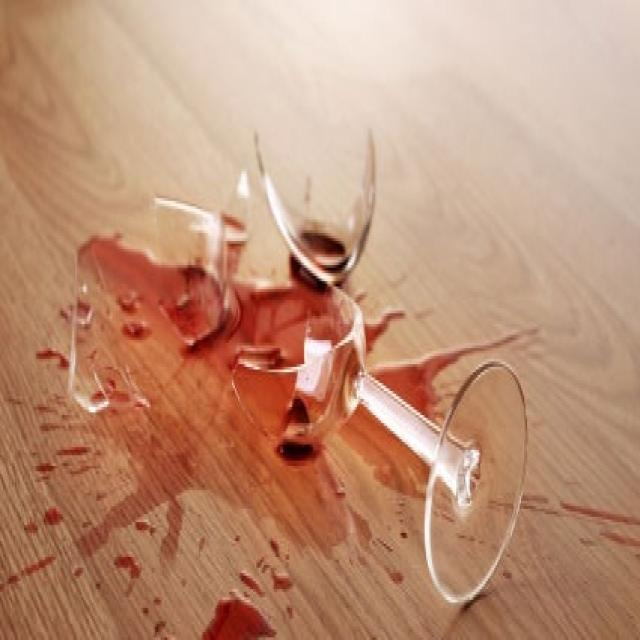Dry Waste: (230, 270, 530, 606), (254, 125, 380, 280)
